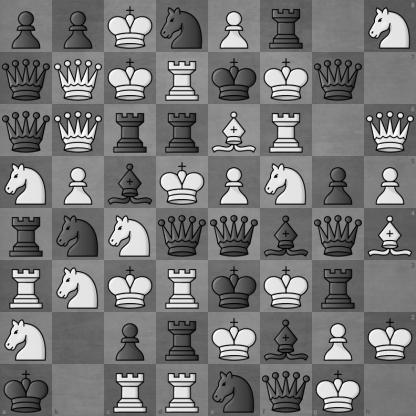B: (364, 209, 416, 260), (209, 105, 260, 156)
K: (312, 364, 364, 416), (364, 312, 416, 364), (105, 1, 156, 52), (105, 53, 156, 104), (105, 261, 156, 312), (157, 157, 208, 208), (209, 313, 260, 364), (261, 53, 312, 104), (261, 261, 312, 312)
N: (364, 0, 416, 52), (1, 157, 52, 208), (1, 313, 52, 364), (53, 261, 104, 312), (105, 209, 156, 260), (261, 157, 312, 208)
P: (364, 156, 416, 209), (53, 157, 104, 208), (209, 1, 260, 52), (209, 157, 260, 208), (313, 313, 364, 364)
Q: (364, 104, 416, 156), (53, 53, 104, 104), (53, 105, 104, 156)
R: (156, 364, 209, 416), (104, 364, 156, 416), (1, 261, 52, 312), (157, 53, 208, 104), (157, 261, 208, 312), (261, 105, 312, 156)
b: (105, 157, 156, 208), (261, 209, 312, 260), (261, 313, 312, 364)
board: (0, 0, 415, 415)
k: (0, 364, 52, 416), (209, 53, 260, 104), (209, 261, 260, 312)
n: (209, 364, 260, 416), (53, 209, 104, 260), (157, 1, 208, 52)
p: (1, 1, 52, 52), (53, 1, 104, 52), (105, 313, 156, 364), (313, 157, 364, 208)
q: (260, 364, 312, 416), (1, 53, 52, 104), (1, 105, 52, 156), (157, 209, 208, 260), (209, 209, 260, 260), (313, 53, 364, 104), (313, 209, 364, 260)
r: (1, 209, 52, 260), (105, 105, 156, 156), (157, 105, 208, 156), (157, 313, 208, 364), (261, 1, 312, 52), (313, 261, 364, 312)
